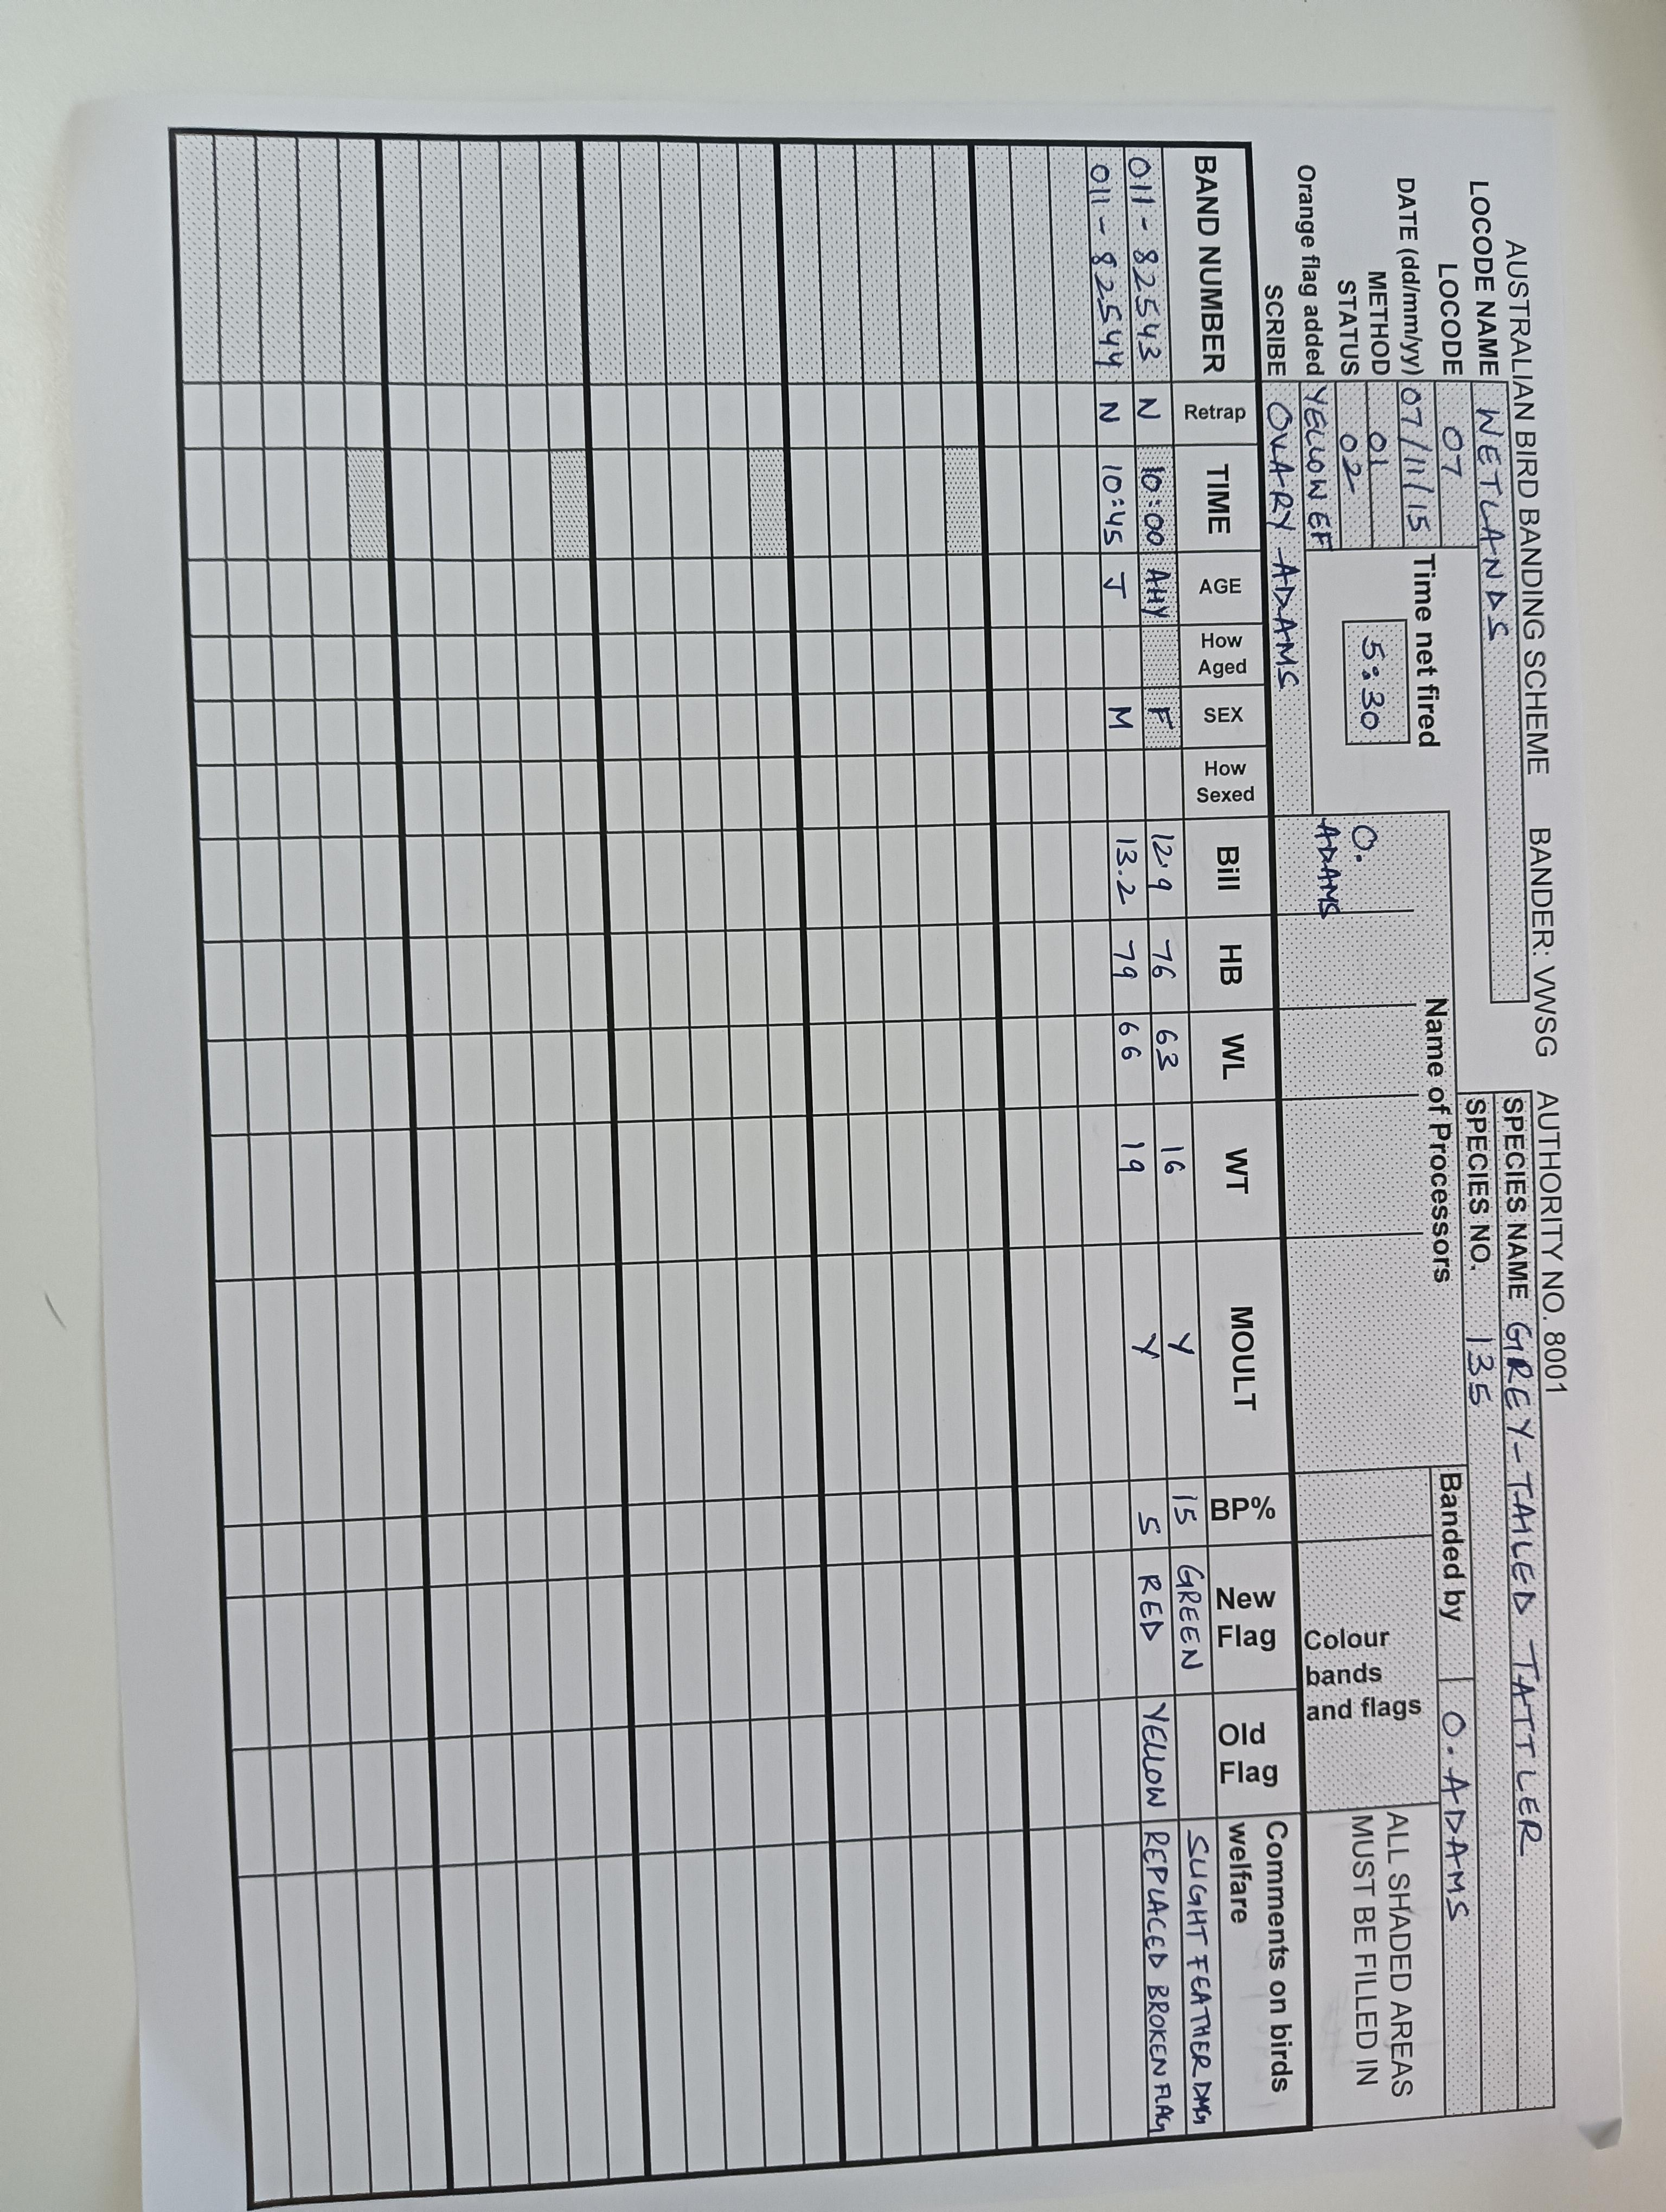BANDED_BY: (1432, 1464, 1484, 2116)
DATA: (1085, 143, 1183, 2142), (1129, 143, 1227, 2139)
DATE: (1395, 152, 1439, 547)
LOCOCODE: (1435, 245, 1475, 547)
LOCOCODE_NAME: (1461, 170, 1529, 1004)
METHOD: (1363, 259, 1405, 551)
NAME_OF_PROCESSORS: (1278, 813, 1403, 920)
ORANGE_FLAG_ADDED: (1290, 157, 1335, 551)
SCRIBE: (1256, 278, 1312, 818)
SPECIES_NAME: (1495, 1084, 1563, 2109)
SPECIES_NO: (1456, 1093, 1519, 2114)
STATUS: (1333, 269, 1372, 551)
TIME_NET_FIRED: (1323, 546, 1454, 775)
